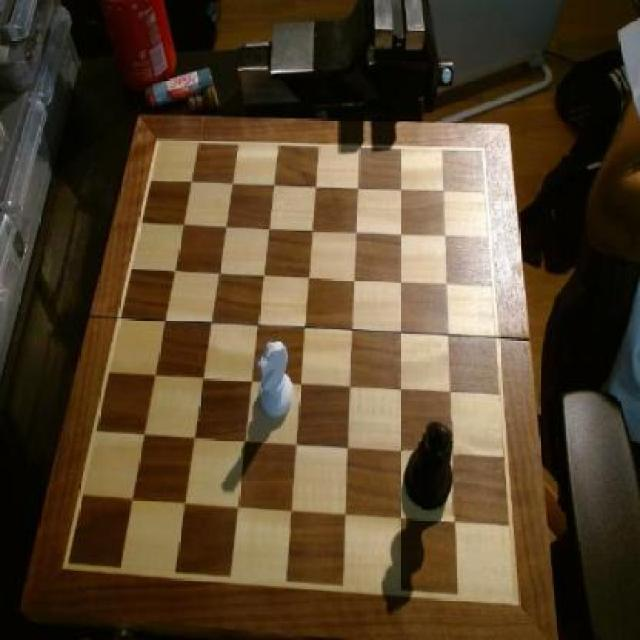black-pawn: (405, 417, 460, 515)
white-king: (258, 338, 297, 418)
